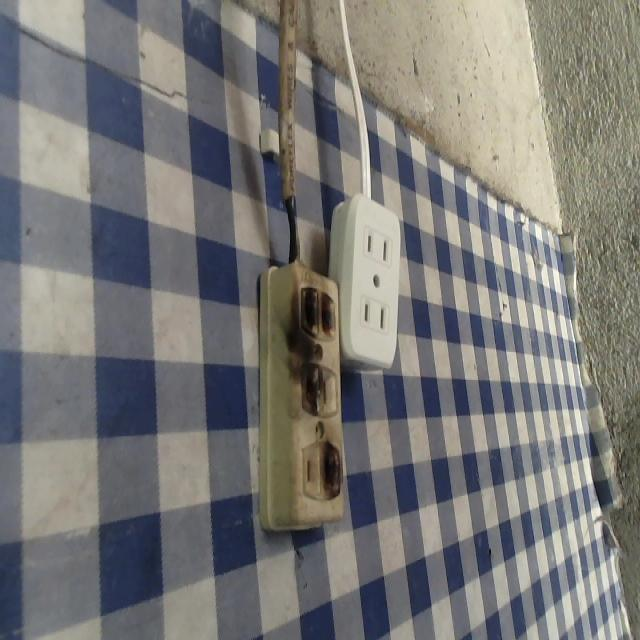-: (286, 273, 342, 344), (290, 355, 325, 424), (318, 436, 344, 499)
